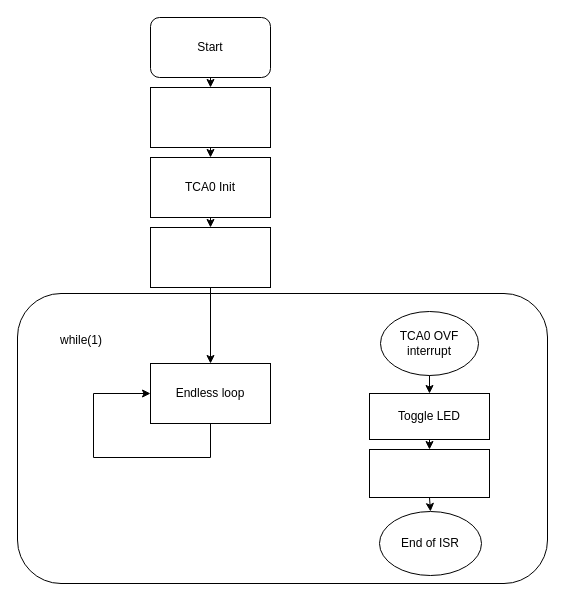
Image size: 565x601. Some labels were removed from this diagram. The shapes that lost their labels are listed below. From the top down, each one's box as (x1, y1, x2, y2) in pixels, then its label:
(150, 86, 270, 148): Pin Init
(150, 226, 270, 288): Set TCA0 OVF ISR
(368, 448, 490, 498): Clear interrupt flag
